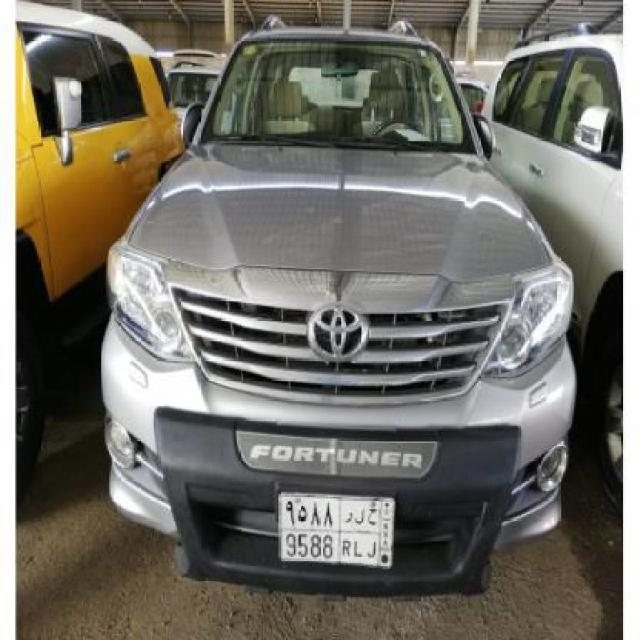license_plate: (278, 490, 397, 573)
